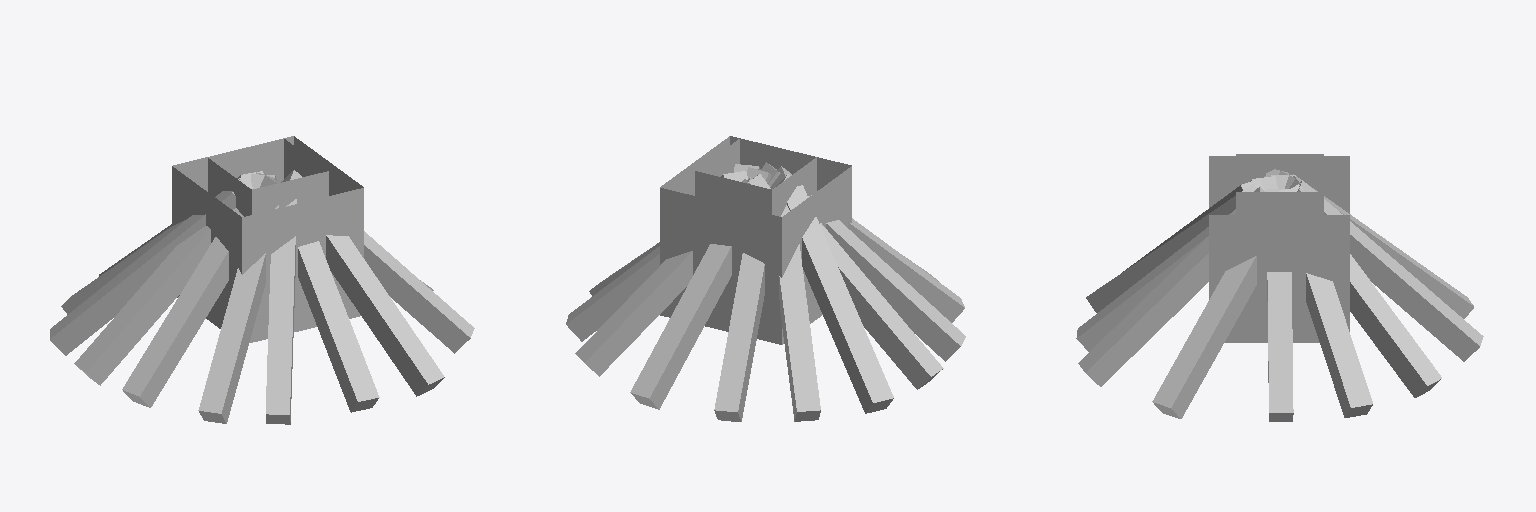
File: cooking_fireplace_burn.obj
The picture shows the model from 3 angles: view 1: azimuth 30°, elevation 25°; view 2: azimuth 150°, elevation 25°; view 3: azimuth 270°, elevation 25°; orthographic projection.
Visible parts, largest first — view 1: Sticks, Fire; view 2: Sticks, Fire; view 3: Sticks, Fire.
Part boxes in pixels (left/top/right/bottom): Sticks: left=50, top=170, right=474, bottom=424; Fire: left=172, top=136, right=363, bottom=342; Sticks: left=566, top=162, right=965, bottom=421; Fire: left=660, top=136, right=851, bottom=344; Sticks: left=1076, top=169, right=1483, bottom=421; Fire: left=1209, top=154, right=1349, bottom=342.
Bounding box in the file's own units: 0.818 × 0.4022 × 0.8347.